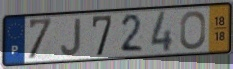2: (119, 12, 145, 56)
4: (149, 10, 176, 54)
7: (27, 17, 54, 63), (90, 14, 113, 58)
J: (59, 16, 83, 58)
O: (179, 9, 207, 51)
